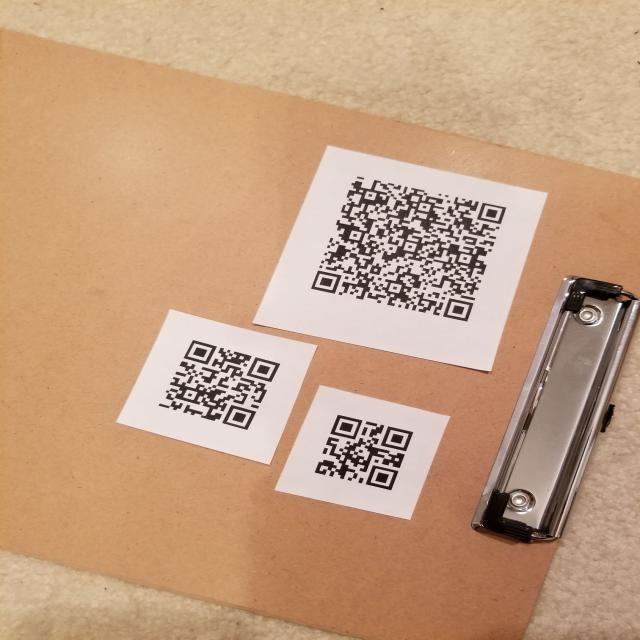QRCode: (304, 167, 533, 331), (153, 329, 290, 440), (302, 407, 426, 501)
